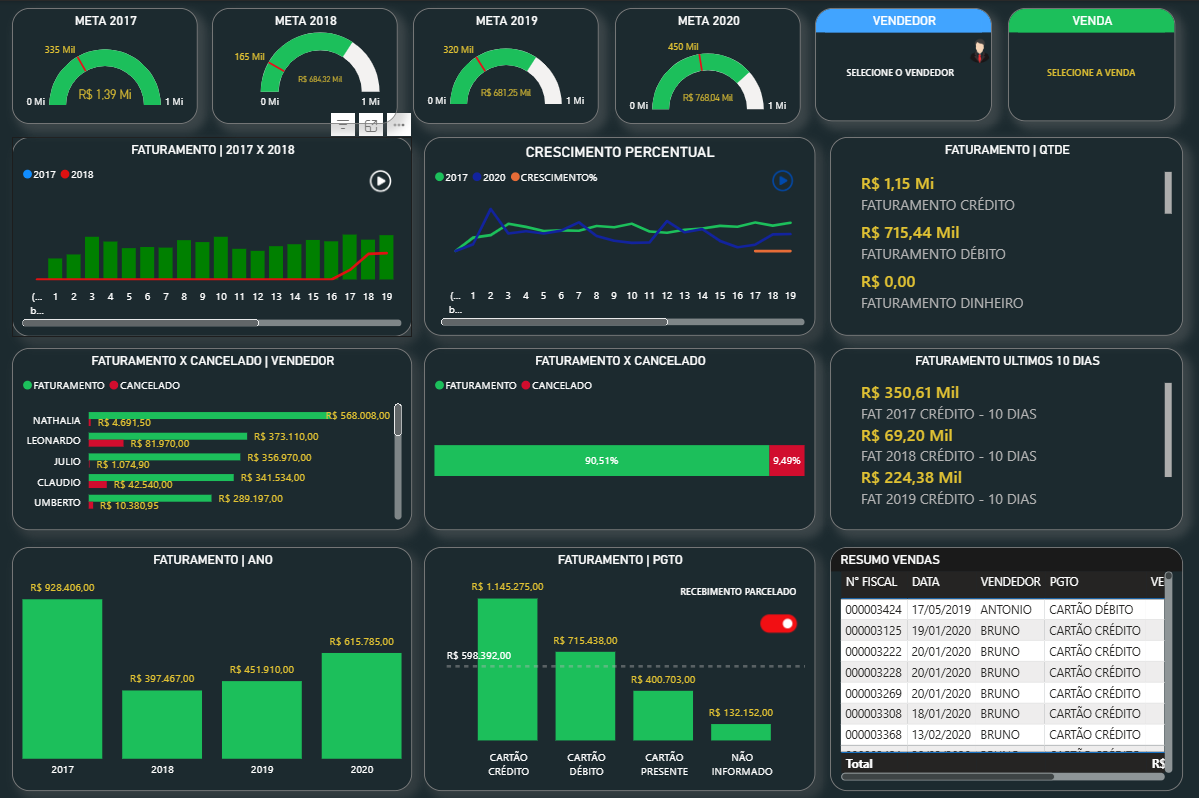

This screenshot's page, from the dashboard's own definition file:
{"tool":"powerbi","page":{"name":"RELATORIO_VENDAS","canvas":[1380,920],"ordinal":1},"visuals":[{"type":"columnChart","title":"FATURAMENTO | ANO","fields":{"Y":["MEDIDAS.FATURAMENTO_TOTAL"],"Category":["CALENDARIO.DATA.Variation.Hierarquia de datas.Ano","CALENDARIO.DATA.Variation.Hierarquia de datas.Mês"]},"box":[17.2,626.3,458.9,279.9],"z":0},{"type":"clusteredBarChart","title":"FATURAMENTO X CANCELADO | VENDEDOR","fields":{"Category":["CONSOLIDADA.VENDEDOR"],"Y":["MEDIDAS.FATURAMENTO_TOTAL","MEDIDAS.VALOR_CANCELADO"]},"box":[17.2,398.1,458.9,208.8],"z":1000},{"type":"clusteredColumnChart","title":"FATURAMENTO | PGTO","fields":{"Category":["CONSOLIDADA.FORMA_PGTO"],"Y":["MEDIDAS.FATURAMENTO_TOTAL"]},"box":[489.8,626.3,448.5,279.9],"z":2000},{"type":"hundredPercentStackedBarChart","title":"FATURAMENTO X CANCELADO","fields":{"Y":["MEDIDAS.FATURAMENTO_TOTAL","MEDIDAS.VALOR_CANCELADO"]},"box":[489.8,398.1,448.5,208.8],"z":3000},{"type":"advancedtoggleswitch","fields":{"Category":["CONSOLIDADA.RECEBIMENTO"]},"box":[870.7,683.7,51.6,45.9],"z":4000},{"type":"cardVisual","fields":{"Data":["MEDIDAS.TEXTO_TOGGLE"]},"box":[754.8,652.7,192.7,47],"z":5000},{"type":"tableEx","title":"RESUMO VENDAS","fields":{"Values":["CONSOLIDADA.N° FISCAL","CALENDARIO.DATA","CONSOLIDADA.VENDEDOR","CONSOLIDADA.FORMA_PGTO","MEDIDAS.FATURAMENTO_TOTAL","MEDIDAS.VALOR_CANCELADO"]},"box":[955.6,626.3,404.9,279.9],"z":6000},{"type":"lineStackedColumnComboChart","title":"FATURAMENTO | 2017 X 2018","fields":{"Y":["MEDIDAS.FAT_17"],"Y2":["MEDIDAS.FAT_18"],"Category":["CALENDARIO.DATA.Variation.Hierarquia de datas.Dia"]},"box":[17.2,156,458.9,229.4],"z":7000},{"type":"lineStackedColumnComboChart","title":"FATURAMENTO | 2019 X 2020","fields":{"Category":["CALENDARIO.DATA.Variation.Hierarquia de datas.Dia"],"Y":["MEDIDAS.FAT_19"],"Y2":["MEDIDAS.FAT_20"]},"box":[489.8,156,448.5,228.3],"z":8000},{"type":"image","title":"BT_BARRAS","box":[408.2,190.5,67.4,37.6],"z":10000},{"type":"image","title":"BT_BARRAS_2","box":[870.8,190.5,67.4,37.6],"z":13000},{"type":"gauge","title":"META 2017","fields":{"Y":["MEDIDAS.FAT_17"],"MinValue":["MEDIDAS.MINIMO"],"MaxValue":["MEDIDAS.MAXIMO"],"TargetValue":["MEDIDAS.META 2017"]},"box":[17.2,8,213.4,133.1],"z":15000},{"type":"gauge","title":"META 2018","fields":{"Y":["MEDIDAS.FAT_18"],"MinValue":["MEDIDAS.MINIMO"],"MaxValue":["MEDIDAS.MAXIMO"],"TargetValue":["MEDIDAS.META 2018"]},"box":[246.6,8,213.4,133.1],"z":16000},{"type":"gauge","title":"META 2019","fields":{"MinValue":["MEDIDAS.MINIMO"],"MaxValue":["MEDIDAS.MAXIMO"],"Y":["MEDIDAS.FAT_19"],"TargetValue":["MEDIDAS.META 2019"]},"box":[477.2,8,213.4,133.1],"z":17000},{"type":"gauge","title":"META 2020","fields":{"MinValue":["MEDIDAS.MINIMO"],"MaxValue":["MEDIDAS.MAXIMO"],"Y":["MEDIDAS.FAT_20"],"TargetValue":["MEDIDAS.META 2020"]},"box":[708.9,8,213.4,133.1],"z":18000},{"type":"cardVisual","title":"FATURAMENTO | QTDE","fields":{"Data":["FORMAS PGTO.FAT_CRED","FORMAS PGTO.FAT_DEB","FORMAS PGTO.FAT_DIN","FORMAS PGTO.FAT_CAR_PRE","FORMAS PGTO.FAT_NÃO INFO","FORMAS PGTO.QTD_CRED","FORMAS PGTO.QTDE_DEB","FORMAS PGTO.QTDE_DIN","FORMAS PGTO.QTDE_PRESENTE","FORMAS PGTO.QTDE NÃO INFO"]},"box":[955.6,156,404.9,228.3],"z":19000},{"type":"cardVisual","title":"FATURAMENTO ULTIMOS 10 DIAS","fields":{"Data":["FORMAS PGTO.FAT_CRED_17","FORMAS PGTO.FAT_CRED_18","FORMAS PGTO.FAT_CRED_19","FORMAS PGTO.FAT_CRED_20"]},"box":[955.6,398.1,404.9,208.8],"z":20000},{"type":"cardVisual","title":"VENDEDOR","fields":{"Data":["VENDEDOR.FILTRO_VENDEDOR"]},"box":[938.4,8,203,129.6],"z":21000},{"type":"image","box":[1099,39,60.8,35.6],"z":22000},{"type":"cardVisual","title":"VENDA","fields":{"Data":["VENDEDOR.FILTRO VENDA"]},"box":[1159.8,8,191.6,129.6],"z":23000}]}

Visuals, with their boxes in screenshot pixels (x1, y1, x2, y2), scaled from the page's 1380x920 canvas onto the 1199x798 screenshot:
"FATURAMENTO | ANO" columnChart: (15, 543, 414, 786)
"FATURAMENTO X CANCELADO | VENDEDOR" clusteredBarChart: (15, 345, 414, 526)
"FATURAMENTO | PGTO" clusteredColumnChart: (426, 543, 815, 786)
"FATURAMENTO X CANCELADO" hundredPercentStackedBarChart: (426, 345, 815, 526)
advancedtoggleswitch - CONSOLIDADA.RECEBIMENTO: (756, 593, 801, 633)
cardVisual - MEDIDAS.TEXTO_TOGGLE: (656, 566, 823, 607)
"RESUMO VENDAS" tableEx: (830, 543, 1182, 786)
"FATURAMENTO | 2017 X 2018" lineStackedColumnComboChart: (15, 135, 414, 334)
"FATURAMENTO | 2019 X 2020" lineStackedColumnComboChart: (426, 135, 815, 333)
"BT_BARRAS" image: (355, 165, 413, 198)
"BT_BARRAS_2" image: (757, 165, 815, 198)
"META 2017" gauge: (15, 7, 200, 122)
"META 2018" gauge: (214, 7, 400, 122)
"META 2019" gauge: (415, 7, 600, 122)
"META 2020" gauge: (616, 7, 801, 122)
"FATURAMENTO | QTDE" cardVisual: (830, 135, 1182, 333)
"FATURAMENTO ULTIMOS 10 DIAS" cardVisual: (830, 345, 1182, 526)
"VENDEDOR" cardVisual: (815, 7, 992, 119)
image: (955, 34, 1008, 65)
"VENDA" cardVisual: (1008, 7, 1174, 119)
